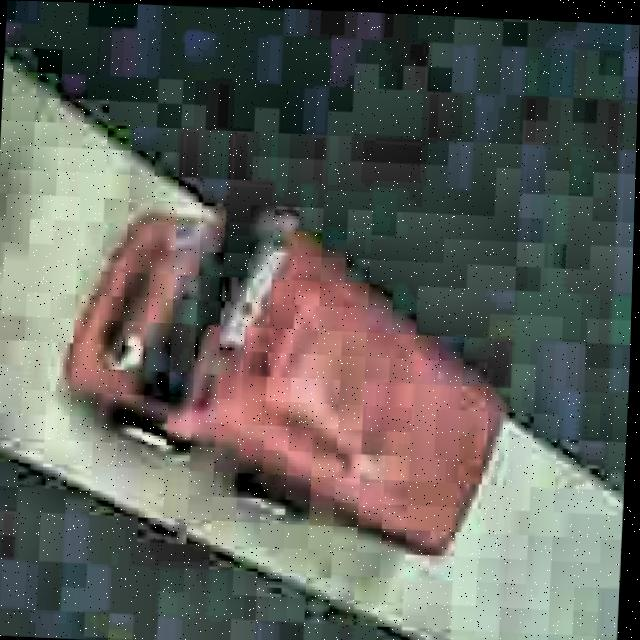bus: (50, 201, 512, 561)
